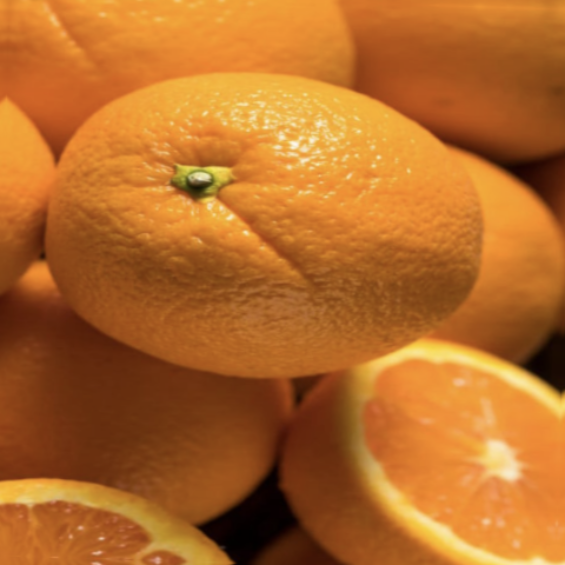orange: (17, 28, 522, 400)
